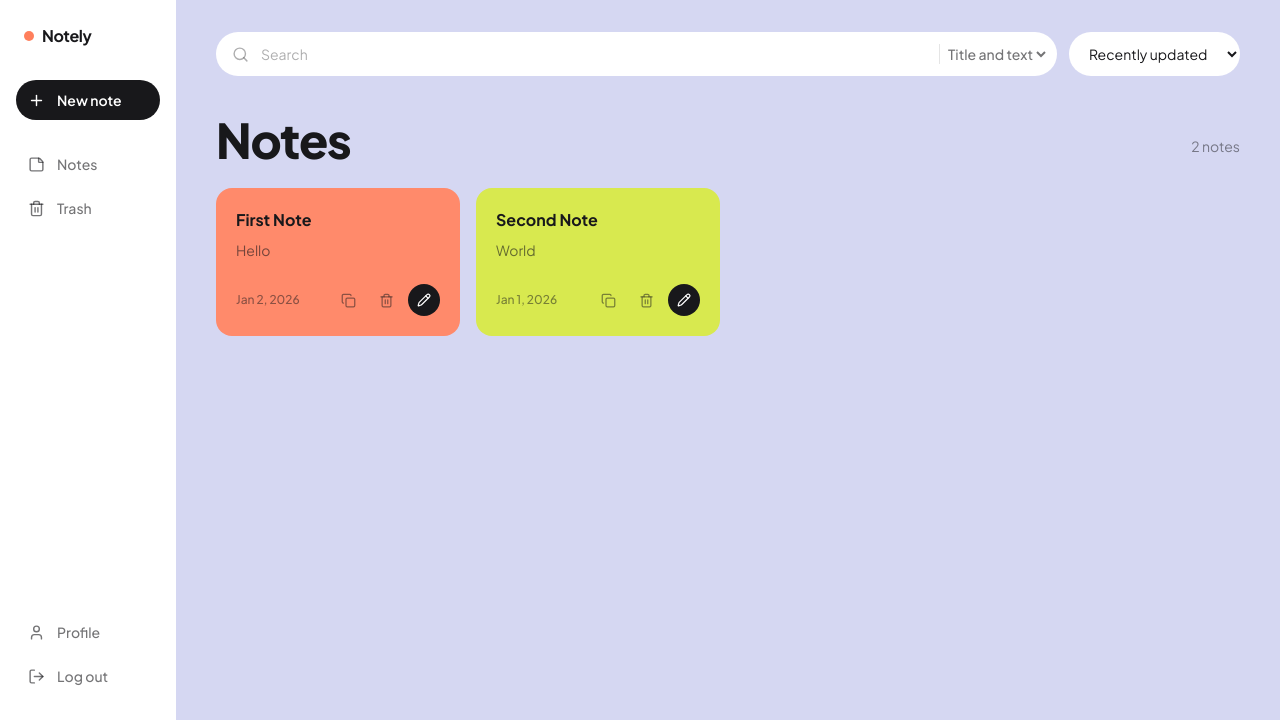
filters the list by the search box
The width and height of the screenshot is (1280, 720).
Type "second" into the search field named "Search notes" at {"x": 594, "y": 54}, box [249,32,939,76]
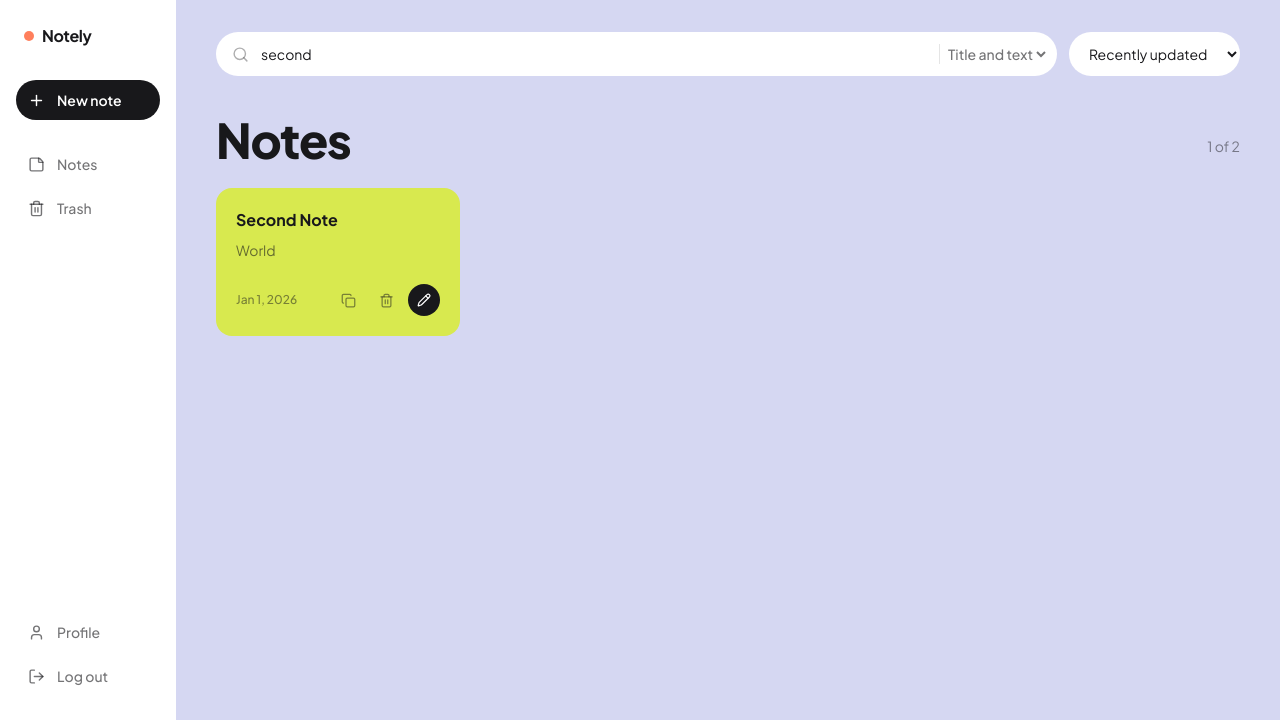
Expected: the heading "Second Note" is shown, [236,209,338,230]
Result: the heading "First Note" is gone
